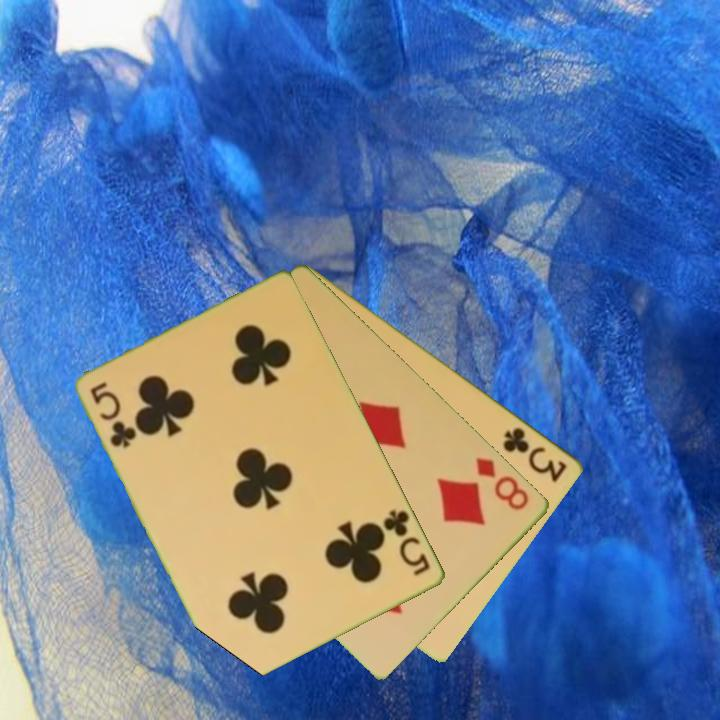3c: (499, 423, 570, 486)
5c: (380, 506, 434, 579), (87, 378, 139, 452)
8d: (472, 453, 533, 513)
